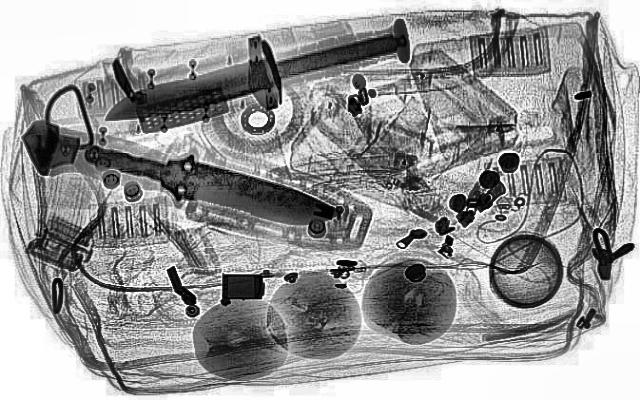Knife: (74, 1, 442, 146), (65, 128, 352, 240)
